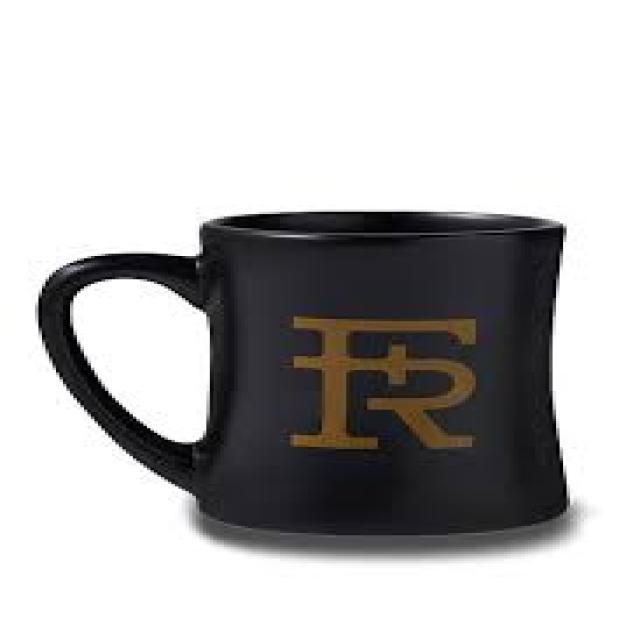taza: (32, 208, 573, 538)
